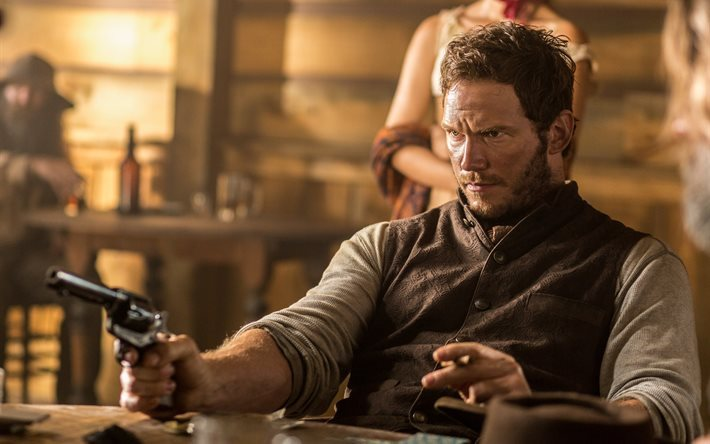Revolver: (42, 256, 187, 382)
